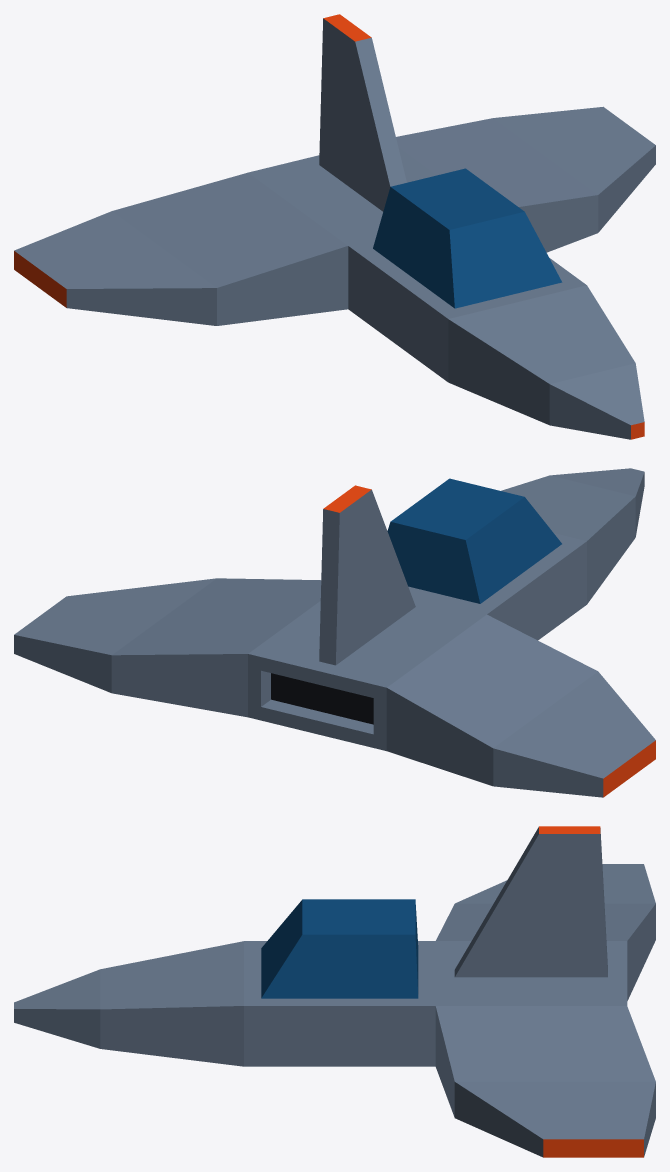
Rendered from nave.obj.
3 views of the same model, one above another, from view 1: azimuth 30°, elevation 25°; view 2: azimuth 150°, elevation 25°; view 3: azimuth 270°, elevation 25° (orthographic). The views are drawn at different scales.
Visible parts, largest first — view 1: Nave; view 2: Nave; view 3: Nave.
Boxes of the visible parts, <box> form: Nave: <box>14,14,655,439</box>; Nave: <box>14,468,655,797</box>; Nave: <box>14,826,655,1157</box>.
Bounding box in the file's own units: 6.8 × 2.35 × 6.7.
